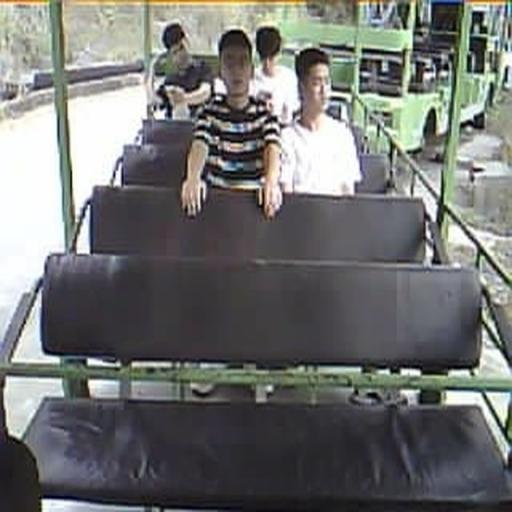persona: (180, 28, 284, 221), (280, 46, 362, 197), (152, 22, 214, 120), (250, 25, 300, 125)
